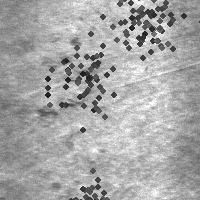rolled-in_scale: (31, 22, 137, 128), (93, 0, 199, 73), (33, 31, 91, 120), (52, 160, 128, 200)
